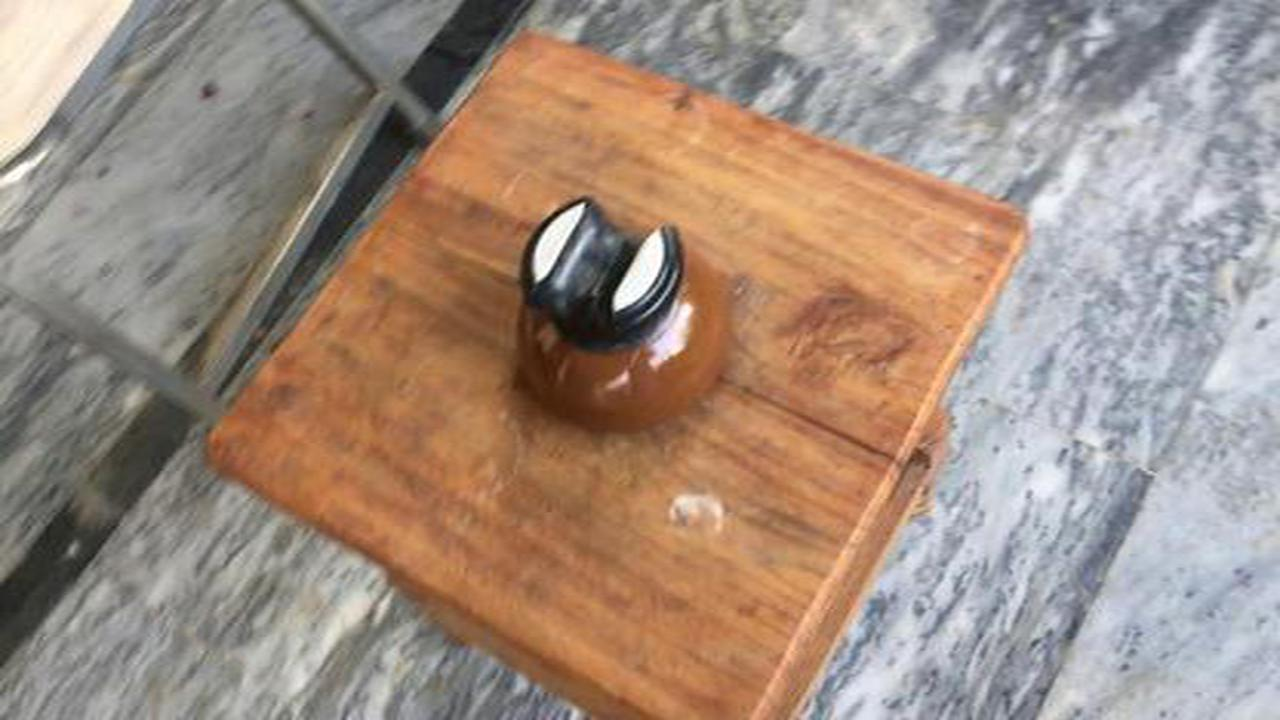insulator_pin: (496, 184, 751, 454)
